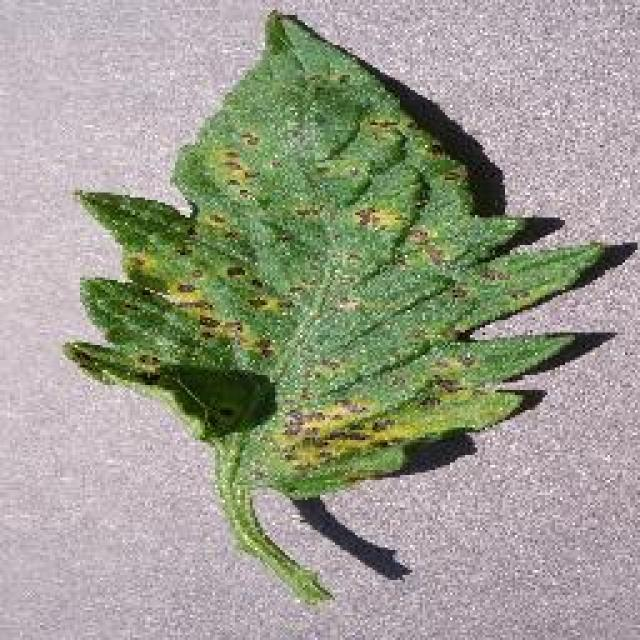Tomato Septoria spot leaf: (64, 10, 604, 510)
